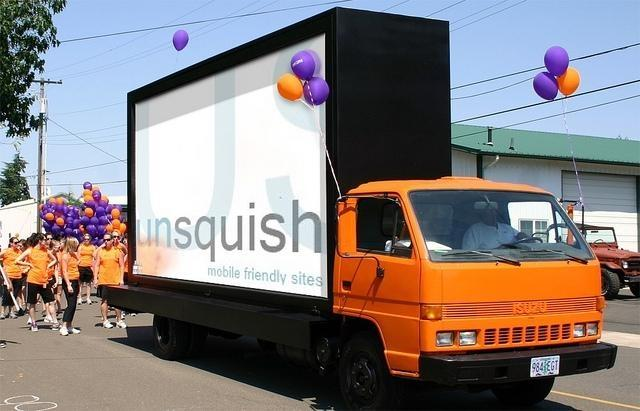car: (574, 223, 640, 300)
truck: (97, 174, 618, 406), (575, 221, 640, 302)
